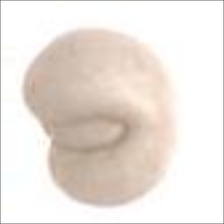L5: (48, 113, 134, 157)
L6: (21, 27, 179, 208)
